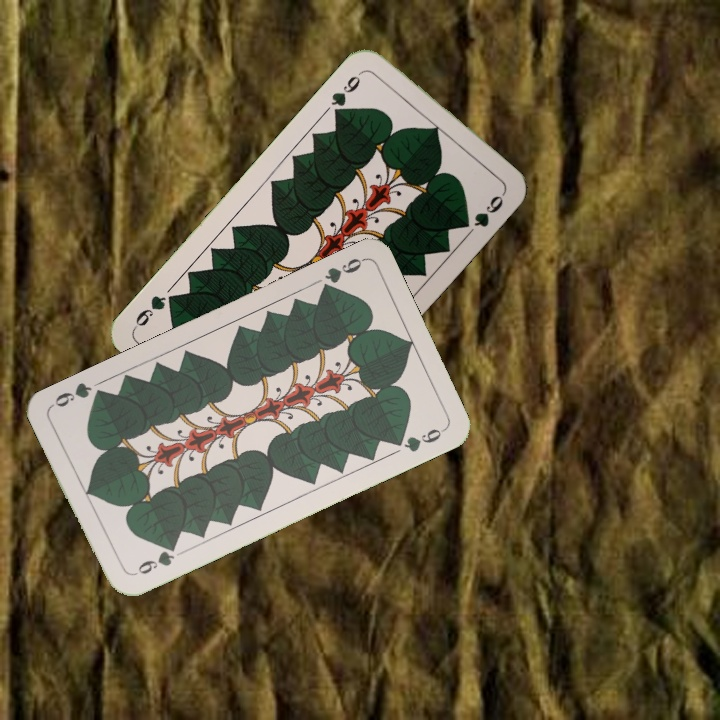G9: (327, 66, 367, 120), (316, 254, 367, 296), (127, 540, 179, 579)
